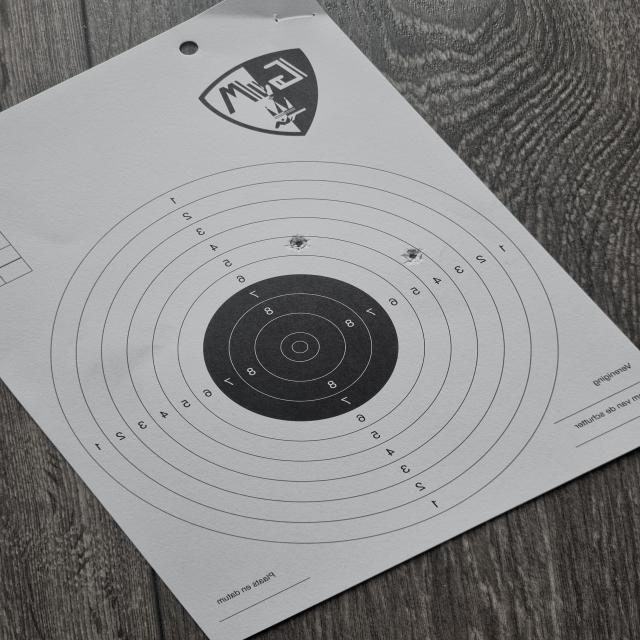4: (401, 247, 423, 264)
5: (284, 236, 311, 250)
Target: (52, 160, 560, 544)
black_contour: (202, 276, 398, 420)
